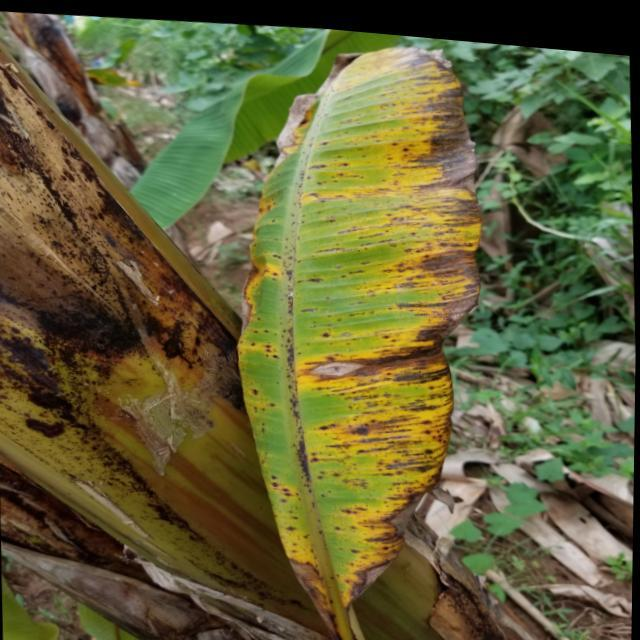Early_rust: (235, 21, 482, 622), (76, 43, 166, 104)
